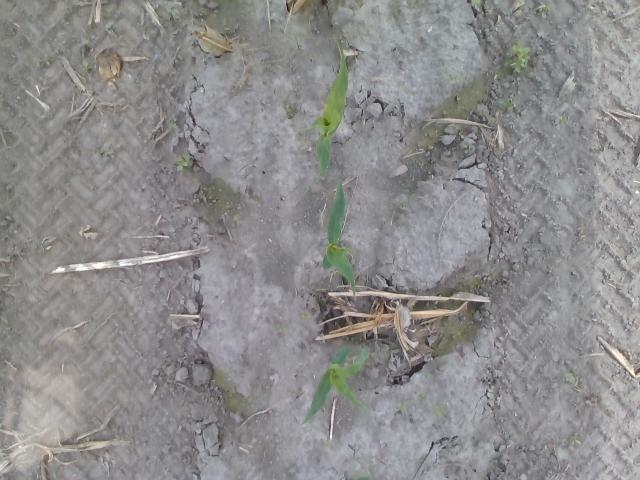Maize: (302, 34, 349, 179), (300, 346, 370, 425), (320, 183, 358, 296)
Weeds: (502, 42, 532, 74), (174, 152, 192, 170), (444, 71, 464, 85), (36, 56, 54, 69), (96, 148, 114, 160), (498, 98, 516, 109), (537, 3, 549, 18), (461, 142, 475, 154), (166, 117, 179, 129), (562, 372, 576, 383), (432, 404, 444, 416), (396, 401, 408, 412), (570, 435, 582, 446), (300, 311, 311, 322), (352, 475, 369, 480), (397, 85, 407, 93), (81, 62, 89, 72), (277, 326, 288, 333), (416, 392, 426, 399), (326, 439, 332, 446), (471, 0, 480, 4)
